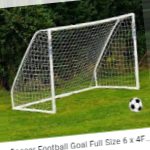goals: (10, 12, 140, 115)
